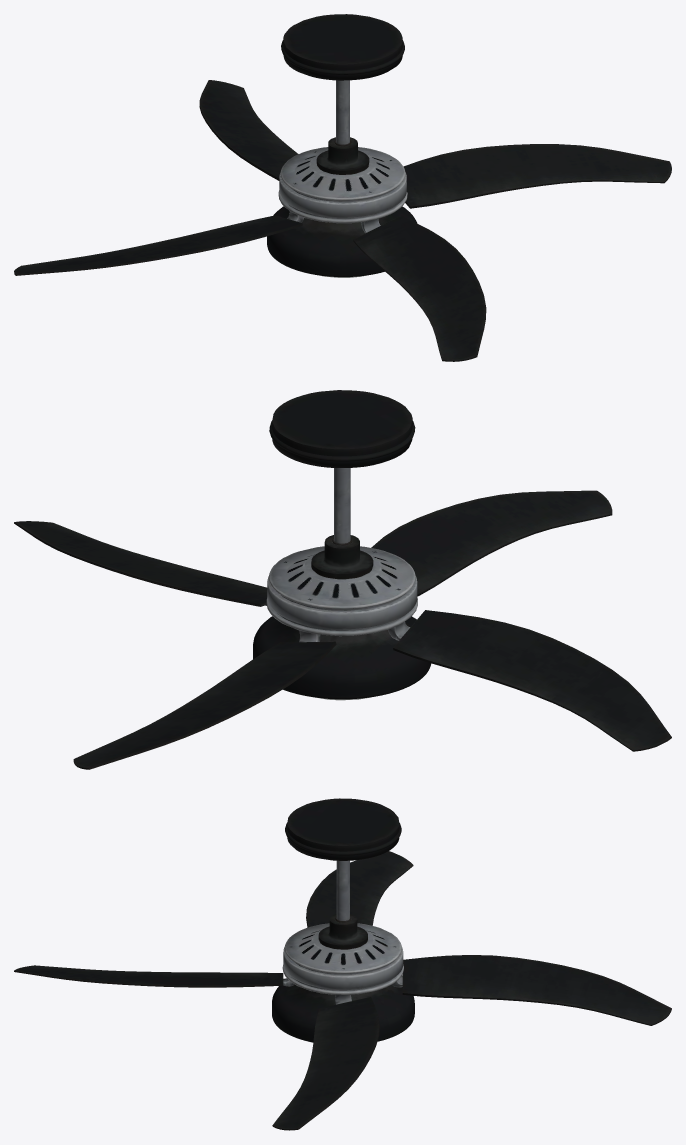
File: ceiling_fan.glb
The picture shows the model from 3 angles, top to bottom: view 1: azimuth 30°, elevation 25°; view 2: azimuth 150°, elevation 25°; view 3: azimuth 270°, elevation 25°; orthographic projection. The views are drawn at different scales.
Visible parts, largest first — view 1: ceiling_fan_blades, ceiling_fan; view 2: ceiling_fan_blades, ceiling_fan; view 3: ceiling_fan_blades, ceiling_fan.
Boxes of the visible parts, x1,y1,x2,y2 form: ceiling_fan_blades: [14, 80, 671, 361]; ceiling_fan: [267, 14, 416, 277]; ceiling_fan_blades: [14, 490, 671, 769]; ceiling_fan: [253, 390, 431, 700]; ceiling_fan_blades: [14, 851, 671, 1130]; ceiling_fan: [272, 798, 414, 1042].
Bounding box in the file's own units: 1.46 × 0.5163 × 1.46.
Materials: 1 (1 with a texture image).
